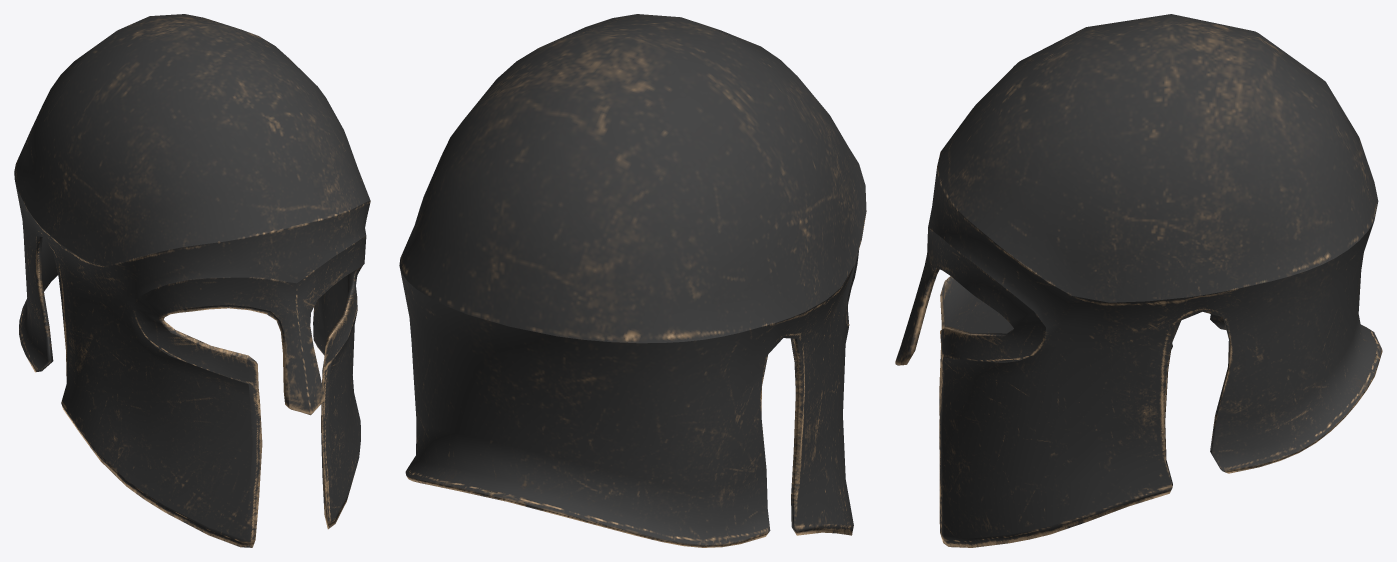
The model's file is CorinthianHelmet_LODG.fbx.
The picture shows the model from 3 angles, left to right: view 1: azimuth 30°, elevation 25°; view 2: azimuth 150°, elevation 25°; view 3: azimuth 270°, elevation 25°; orthographic projection. The views are drawn at different scales.
Visible parts, largest first — view 1: CorinthianHelmet_LOD0; view 2: CorinthianHelmet_LOD0; view 3: CorinthianHelmet_LOD0.
Part boxes in pixels (x1,y1,x2,y2): CorinthianHelmet_LOD0: (14, 14, 370, 547); CorinthianHelmet_LOD0: (399, 14, 866, 547); CorinthianHelmet_LOD0: (895, 14, 1382, 547).
Size of what is drawn, in the model's own units: 19.68 by 29.08 by 25.93.
